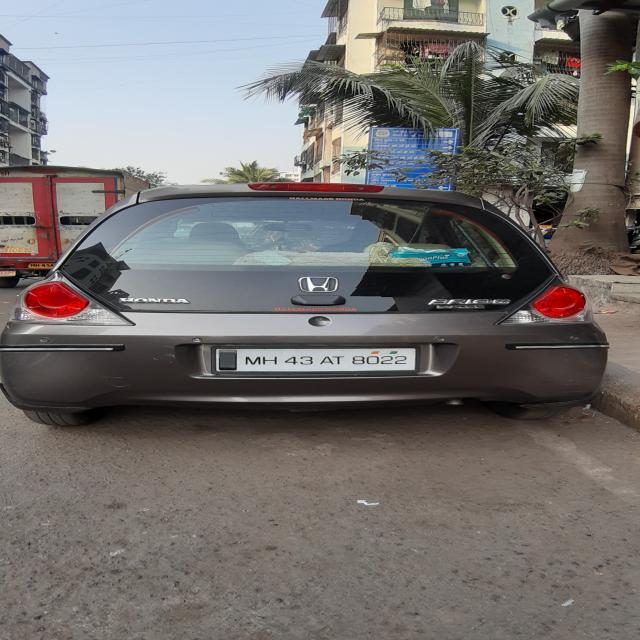Number-Plate: (217, 350, 416, 369)
